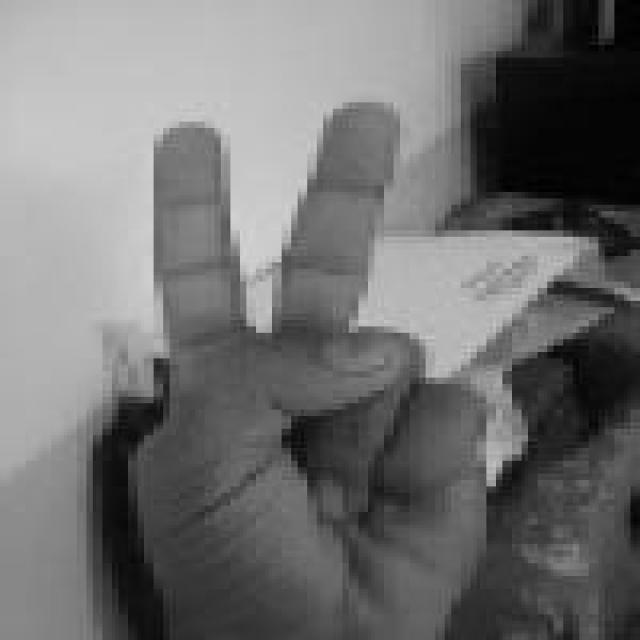V: (109, 96, 496, 634)
